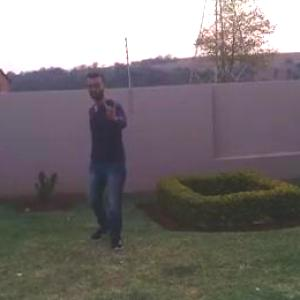takeoff-hand: (100, 95, 123, 124)
